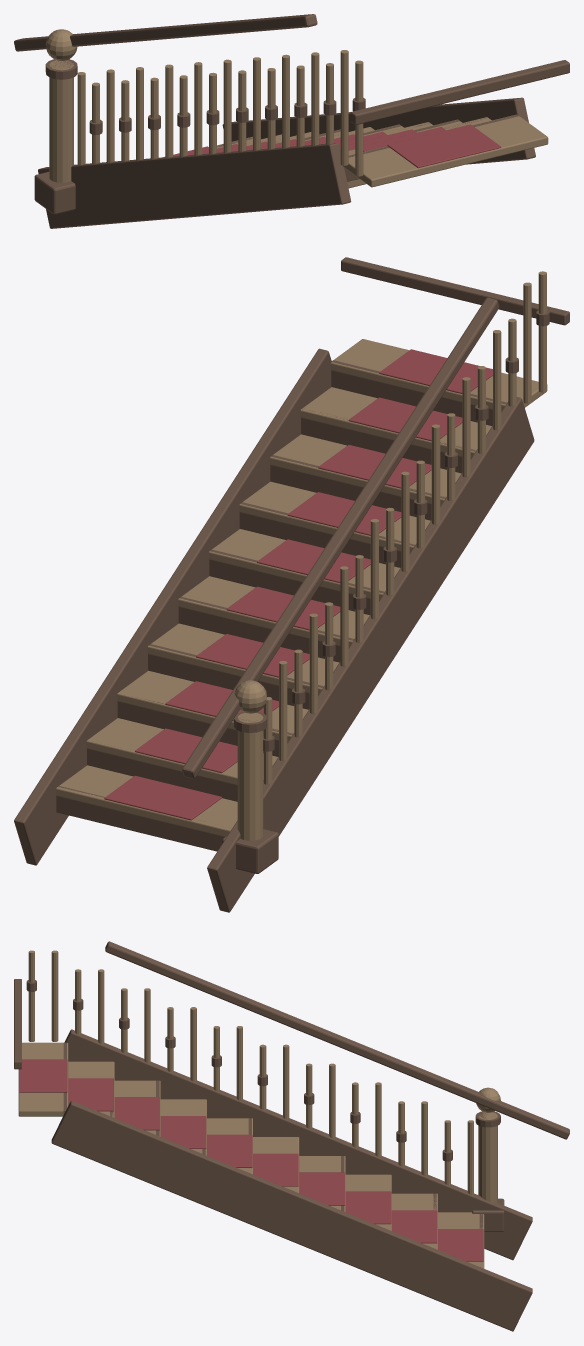
The picture shows the model from 3 angles, top to bottom: view 1: azimuth 30°, elevation 25°; view 2: azimuth 150°, elevation 25°; view 3: azimuth 270°, elevation 25°; orthographic projection. The views are drawn at different scales.
Visible parts, largest first — view 1: grandStair; view 2: grandStair; view 3: grandStair.
Part boxes in pixels (x1,y1,x2,y2): grandStair: [14, 14, 569, 228]; grandStair: [14, 257, 569, 912]; grandStair: [14, 941, 569, 1331].
Bounding box in the file's own units: 1.79 × 3.01 × 4.81.
